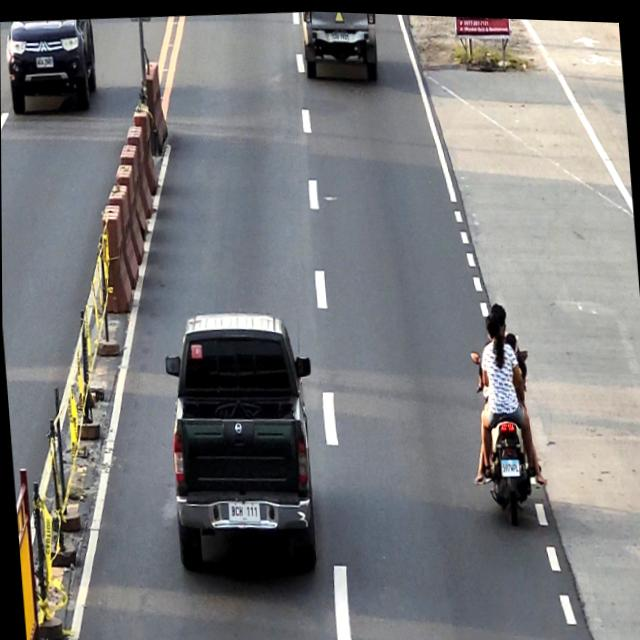Car: (159, 302, 326, 584), (2, 15, 99, 119), (300, 9, 379, 80)
License-Plate: (228, 498, 257, 520), (500, 455, 520, 473), (35, 54, 53, 68), (332, 28, 349, 39)
Motorcycle: (469, 342, 540, 527)
